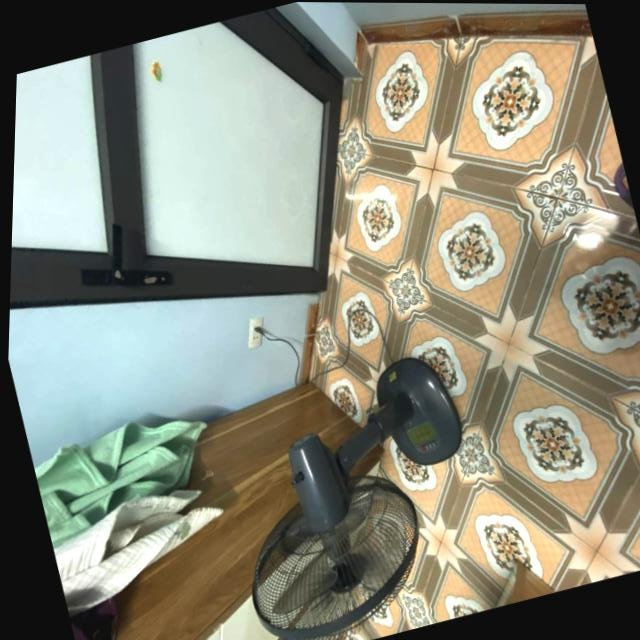outlet: (240, 315, 270, 350)
